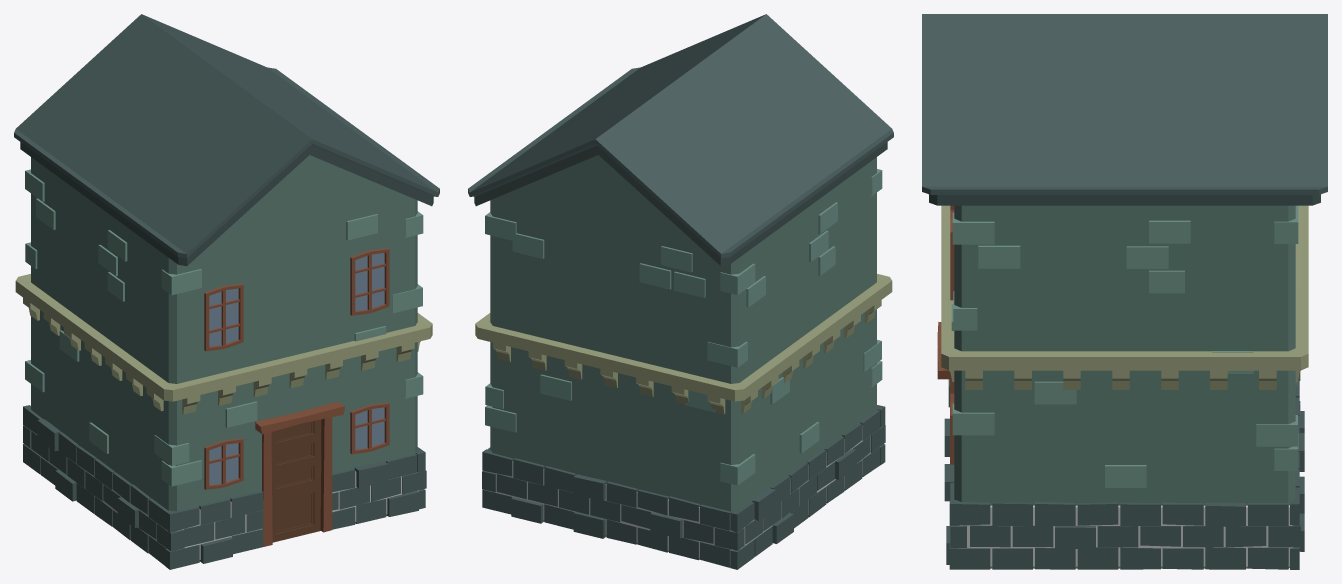
Rendered from 2story_gableroof_mat.glb.
3 views of the same model, side by side, from view 1: azimuth 30°, elevation 25°; view 2: azimuth 150°, elevation 25°; view 3: azimuth 270°, elevation 25° (orthographic). The views are drawn at different scales.
Parts seen in each view (by area): view 1: 2Story_GableRoof_Mat; view 2: 2Story_GableRoof_Mat; view 3: 2Story_GableRoof_Mat.
Boxes of the visible parts, x1,y1,x2,y2 form: 2Story_GableRoof_Mat: (14,14,439,569); 2Story_GableRoof_Mat: (468,14,893,569); 2Story_GableRoof_Mat: (922,14,1327,569).
Bounding box in the file's own units: 2.16 × 3.13 × 2.38.
